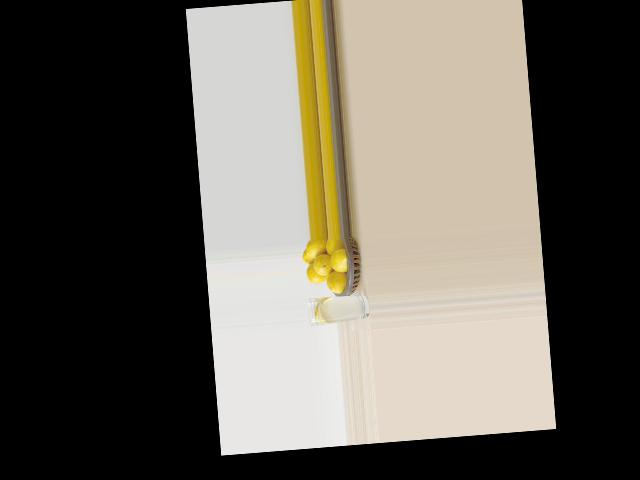lemon: (303, 237, 329, 260)
